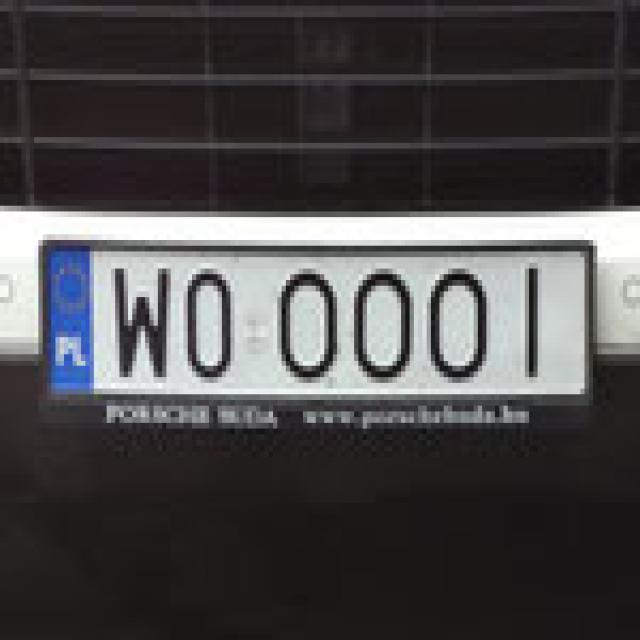pl_license_plate: (38, 234, 584, 400)
